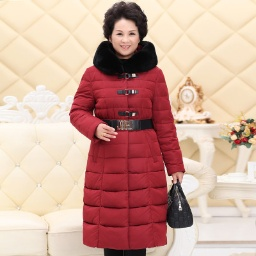face: (99, 1, 148, 55)
